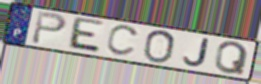C: (105, 25, 142, 58)
E: (65, 16, 106, 55)
J: (181, 38, 210, 68)
O: (141, 29, 177, 64)
P: (30, 10, 69, 46)
Q: (214, 41, 250, 77)
